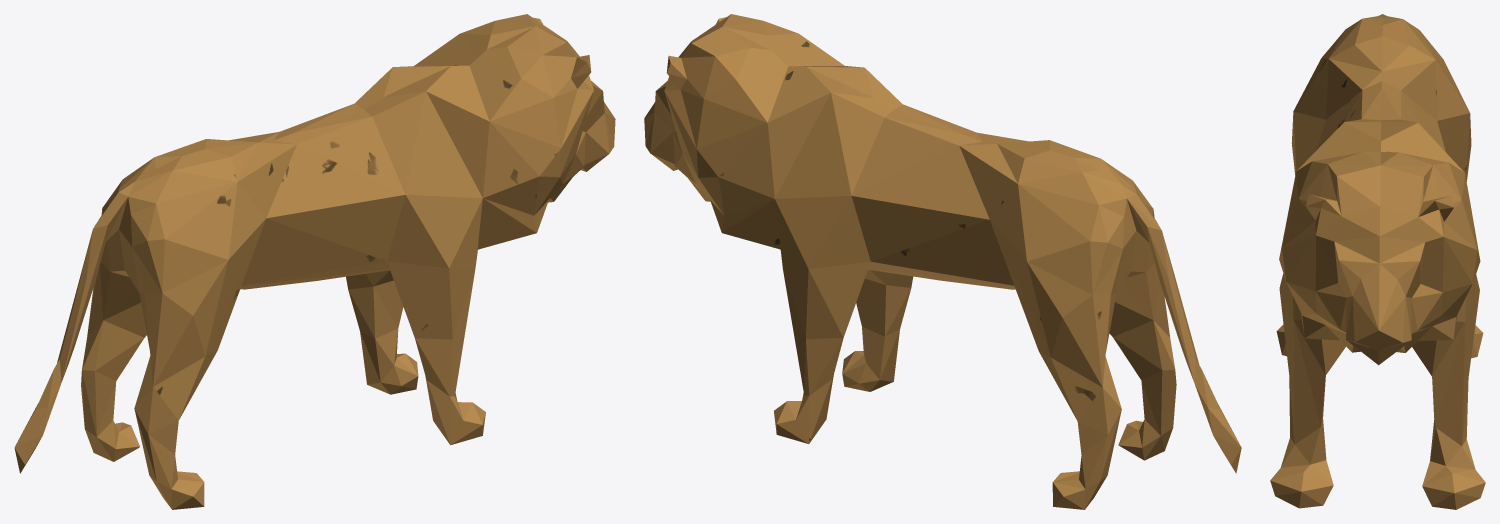
Rendered from Leone.fbx.
3 renders of one model, left to right at view 1: azimuth 30°, elevation 25°; view 2: azimuth 150°, elevation 25°; view 3: azimuth 270°, elevation 25°, orthographic. The views are drawn at different scales.
Parts seen in each view (by area): view 1: object_0; view 2: object_0; view 3: object_0.
Boxes of the visible parts, bbox=[...] form: object_0: bbox=[14, 14, 615, 509]; object_0: bbox=[644, 14, 1241, 509]; object_0: bbox=[1270, 14, 1485, 509].
Bounding box in the file's own units: 279 × 159 × 78.9.
